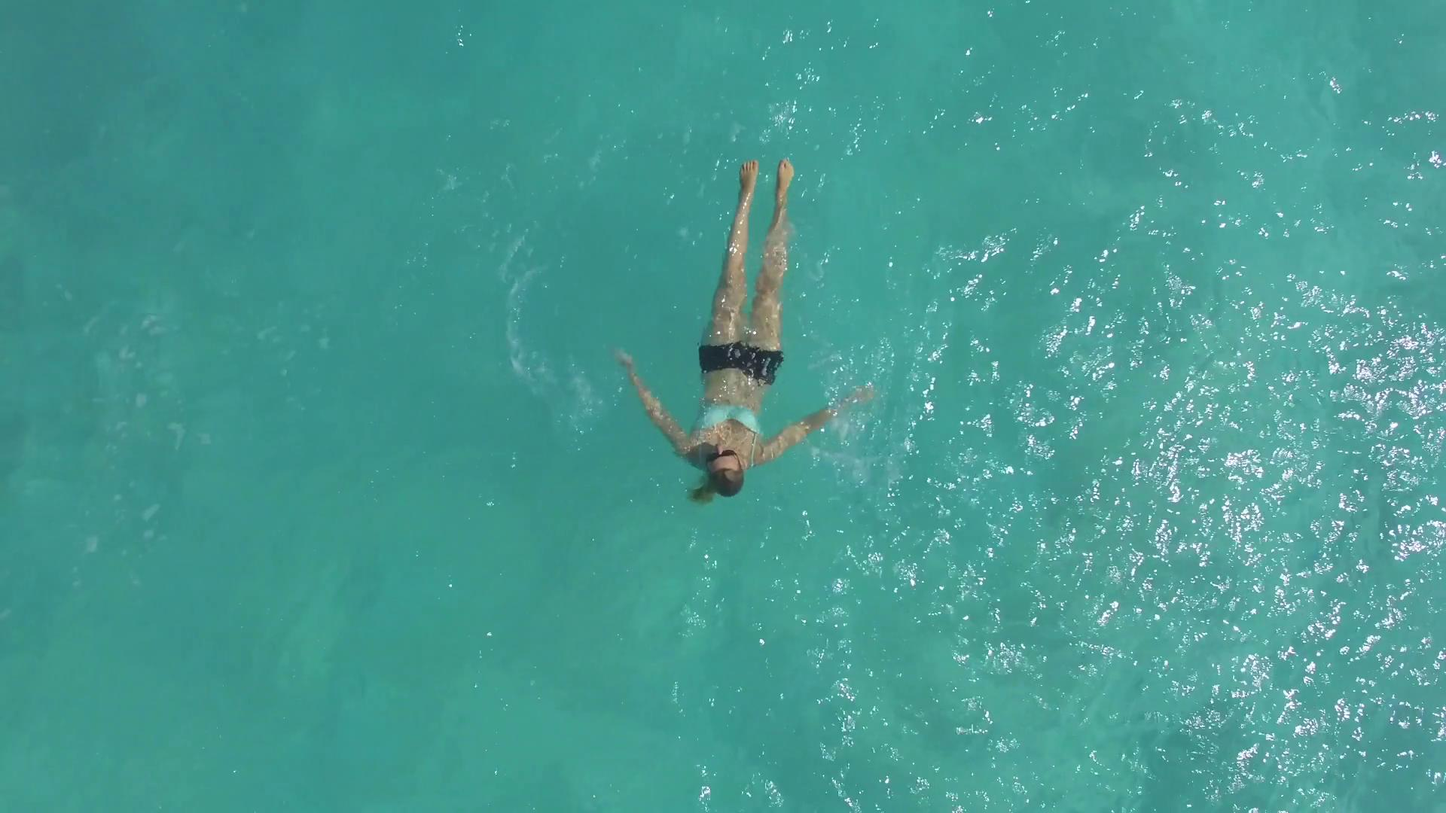human: (611, 154, 871, 501)
